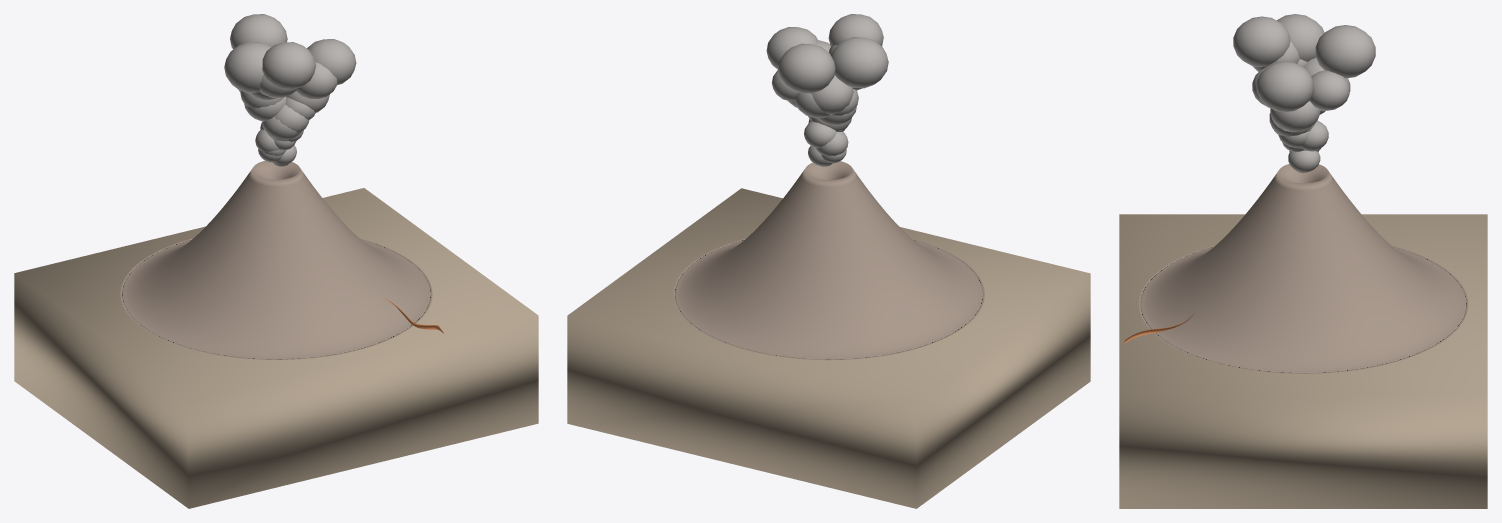
File: volcano.glb
3 renders of one model, left to right at view 1: azimuth 30°, elevation 25°; view 2: azimuth 150°, elevation 25°; view 3: azimuth 270°, elevation 25°, orthographic. The views are drawn at different scales.
Visible parts, largest first — view 1: ground, cone, ash_cloud; view 2: ground, cone, ash_cloud; view 3: ground, cone, ash_cloud.
Boxes of the visible parts, <box> form: ground: <box>14,188,538,508</box>; cone: <box>120,160,432,359</box>; ash_cloud: <box>224,14,356,166</box>; ground: <box>567,188,1090,508</box>; cone: <box>673,161,984,360</box>; ash_cloud: <box>766,14,888,166</box>; ground: <box>1119,214,1487,508</box>; cone: <box>1138,164,1468,373</box>; ash_cloud: <box>1233,14,1375,173</box>.
Size of the model in its own units: 0.44 by 0.4491 by 0.38.
